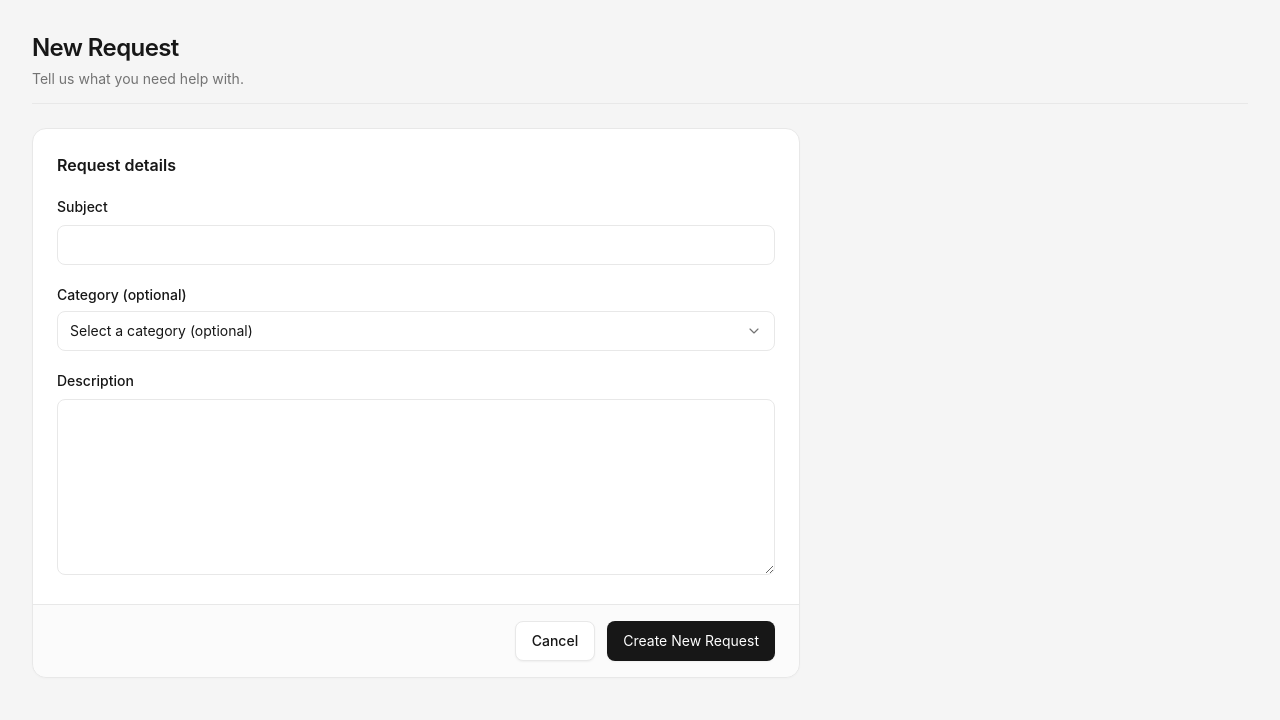
it: portal pages › keeps required validation associated with the fields
Step 1. Click the button "Create New Request" → (691, 641), box left=607, top=621, right=775, bottom=661
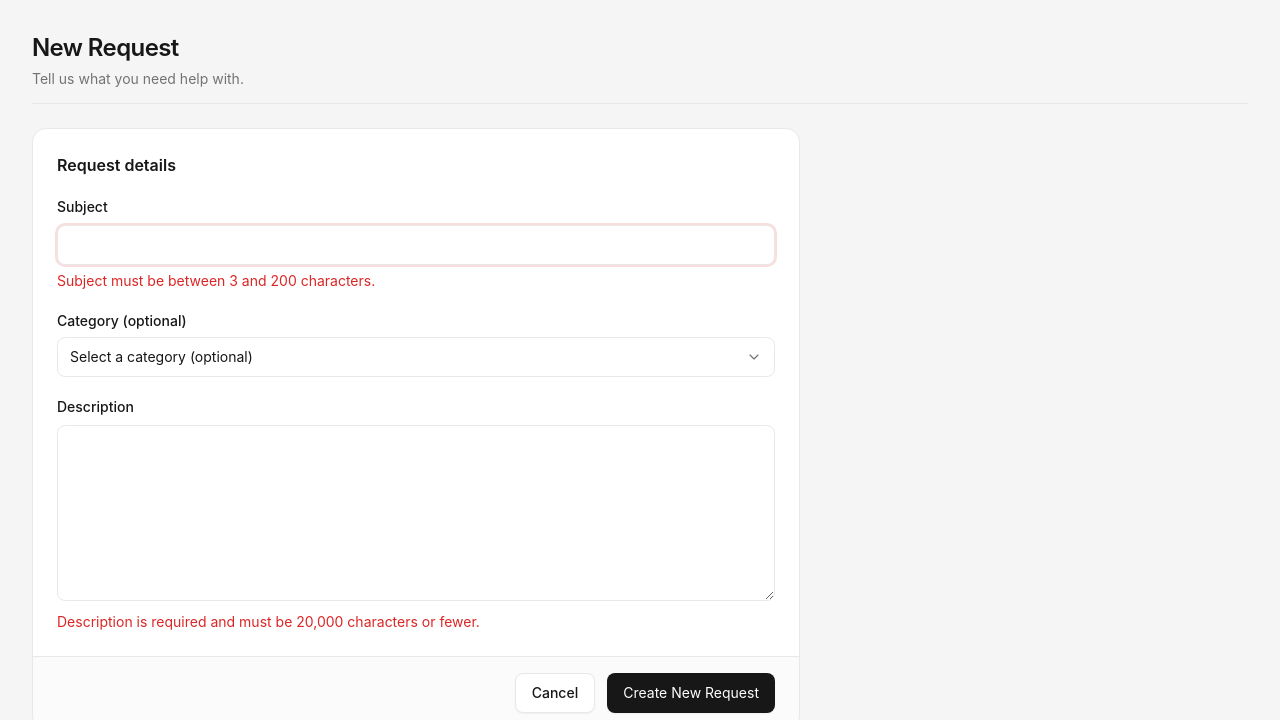
Expected: the text "Subject must be between 3 and 200 characters." is shown, left=57, top=272, right=375, bottom=289
